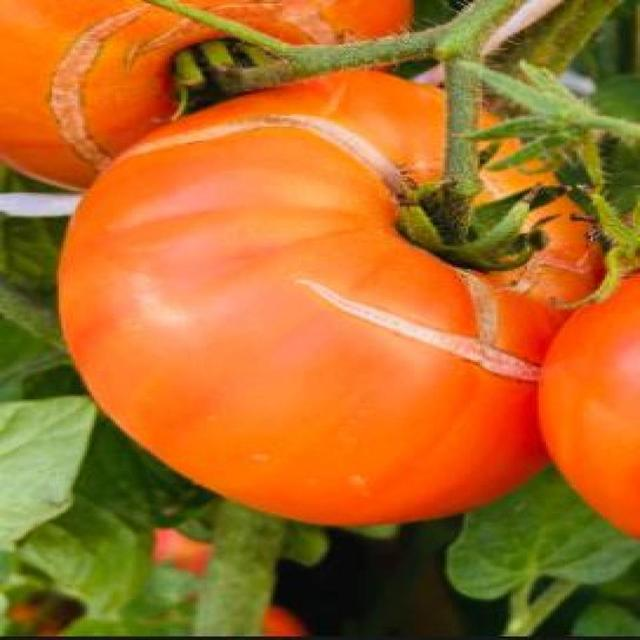Cracking Fruit: (59, 59, 276, 208)
